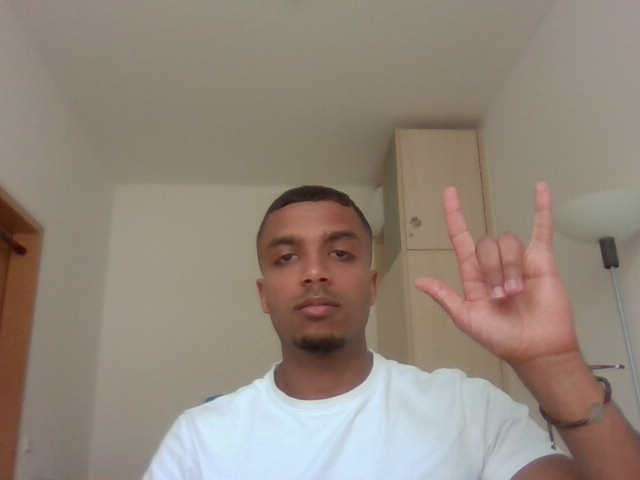absolutely: (405, 168, 603, 368)
